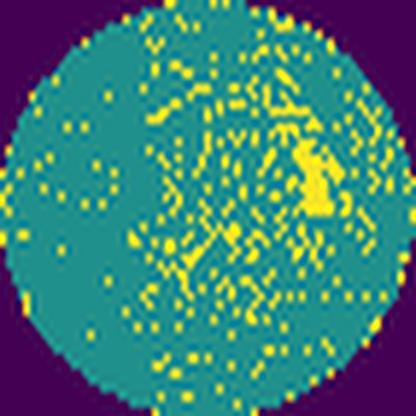Loc: (267, 121, 350, 219)
